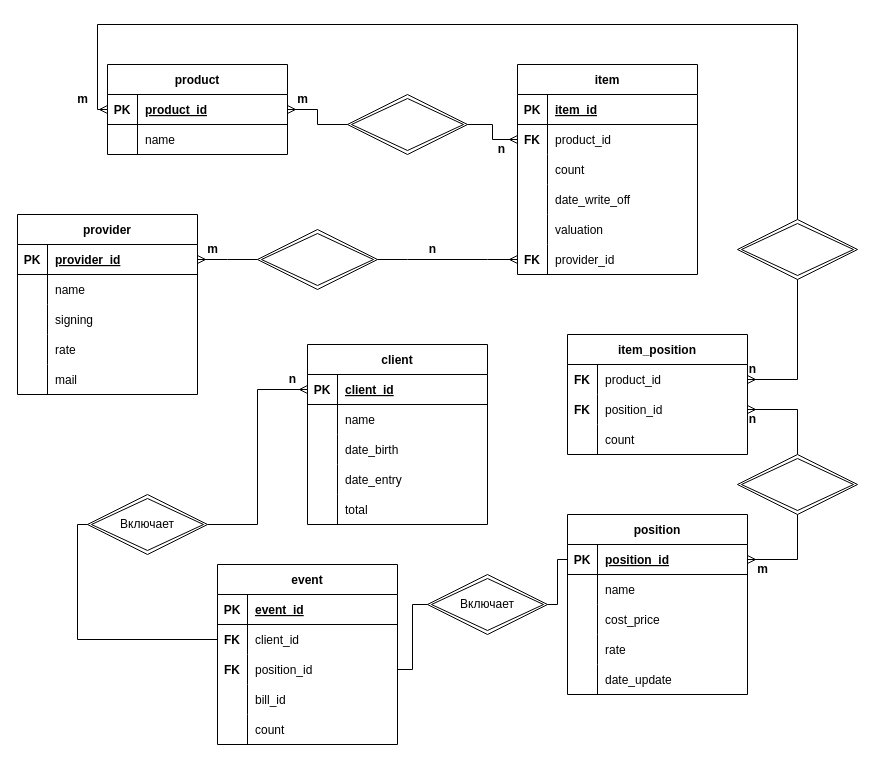
Some shapes in this 875 by 762 pixel diagram are drawn without their labels. Here are the shapes that lost their labels. From the top down, the centre of each, then its label:
At point (407, 124): "Определяет".
At point (317, 259): "Поставляет".
At point (797, 249): "Включаются в".
At point (797, 484): "Состоит из".
